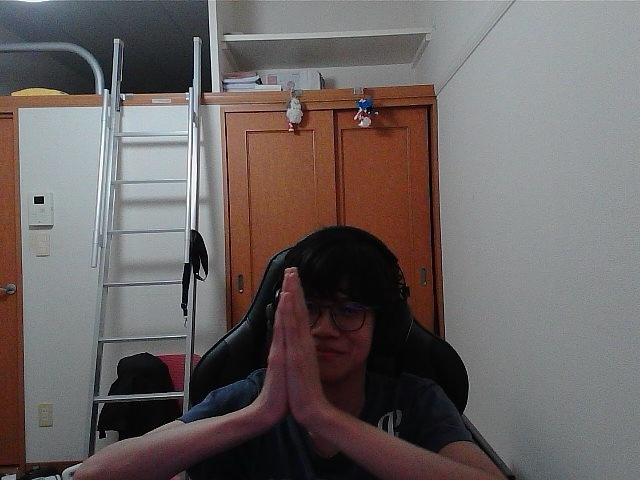pray: (284, 290, 316, 399)
